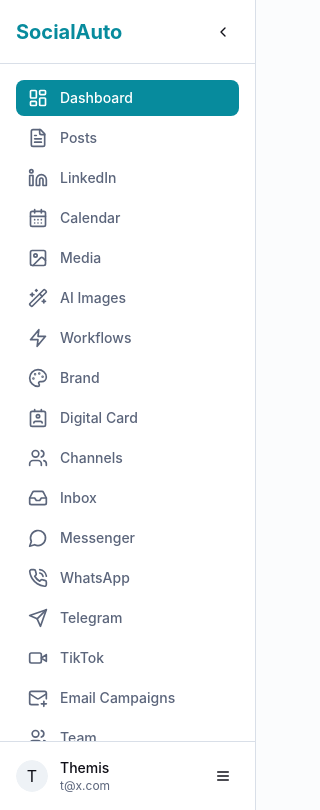
Sidebar › collapses and expands via the toggle button
The image size is (320, 810).
Step 1. Click the button named "Collapse sidebar" → x=223, y=32, box x1=207 y1=16 x2=239 y2=48
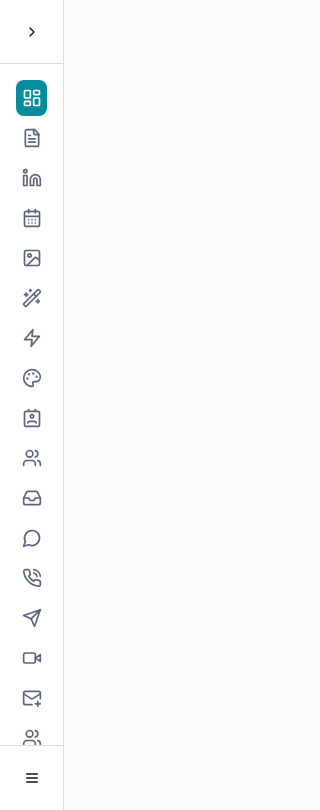
Check: the text "SocialAuto" is gone
Step 2. Click the button named "Expand sidebar" → x=32, y=32, box x1=16 y1=16 x2=47 y2=48
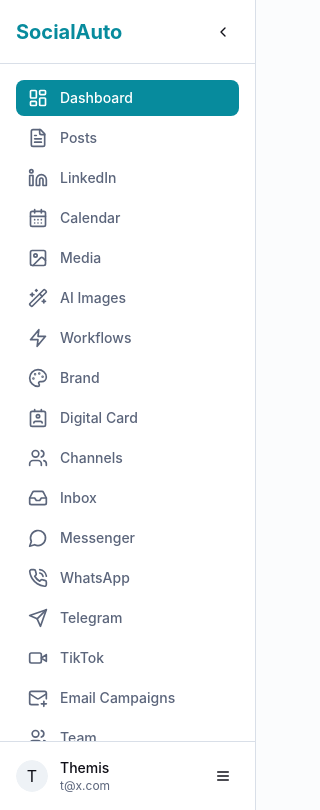
Check: the text "SocialAuto" is shown, box x1=16 y1=18 x2=122 y2=46
